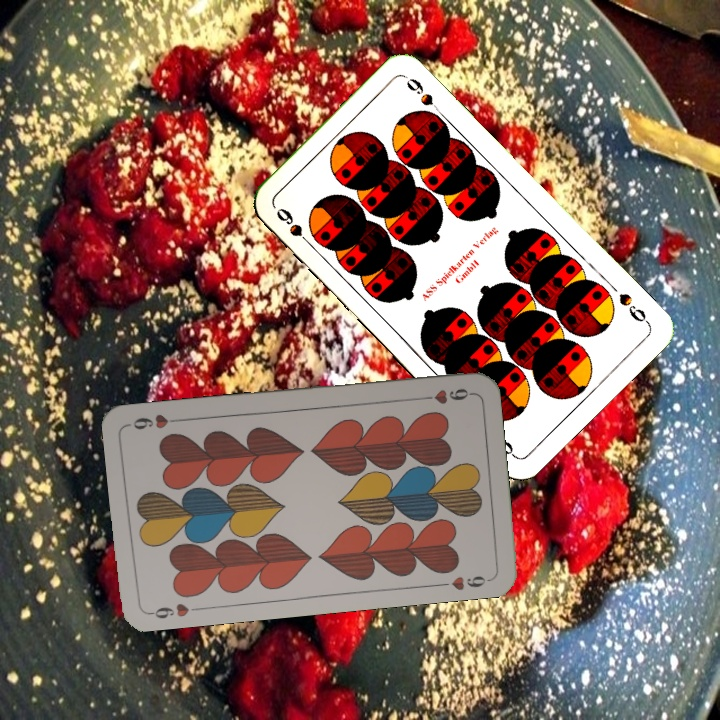H9: (415, 384, 474, 407), (145, 599, 204, 622)
S9: (272, 203, 316, 251), (615, 288, 652, 327)
